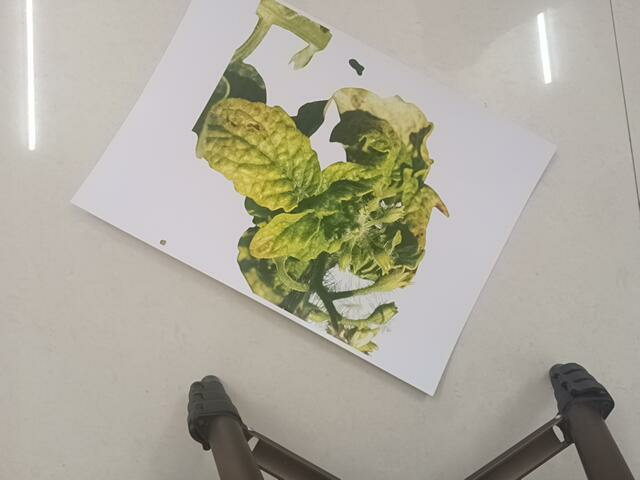Tomamto_Leaf_curl_virus: (197, 4, 456, 355)
